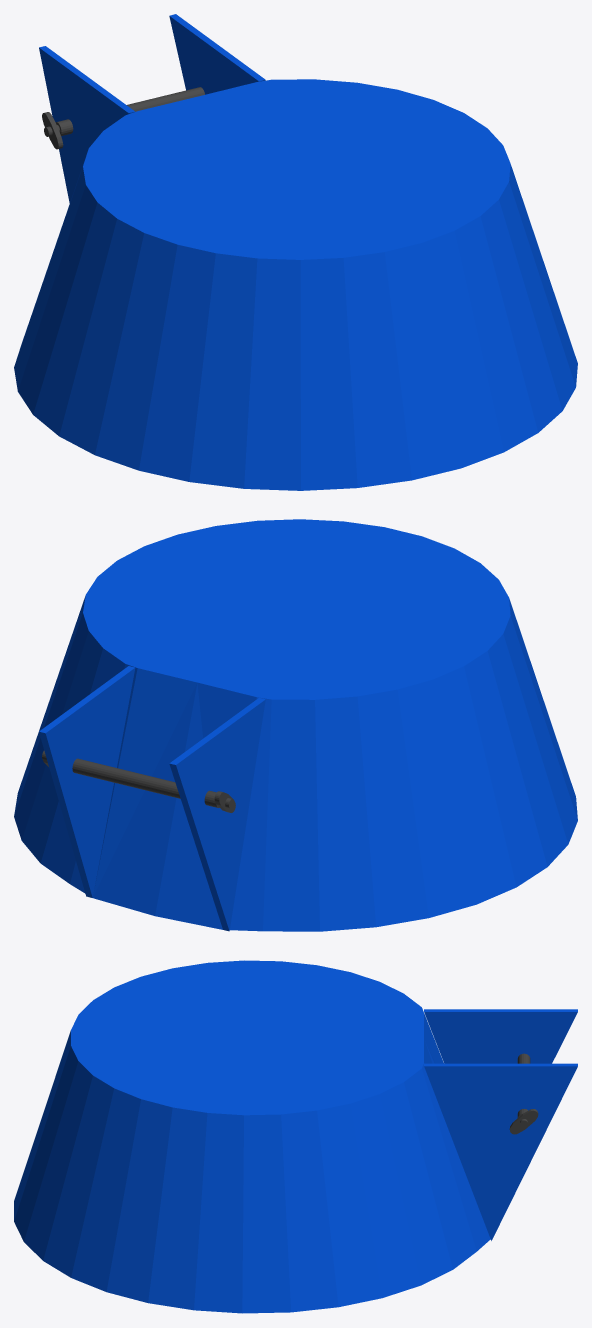
The model's file is Movable_part_1.fbx.
The picture shows the model from 3 angles, top to bottom: view 1: azimuth 30°, elevation 25°; view 2: azimuth 150°, elevation 25°; view 3: azimuth 270°, elevation 25°; orthographic projection. The views are drawn at different scales.
Visible parts, largest first — view 1: Movable; view 2: Movable; view 3: Movable.
Part boxes in pixels (<box>): Movable: <box>14,14,577,490</box>; Movable: <box>14,519,577,931</box>; Movable: <box>14,960,577,1313</box>.
Bounding box in the file's own units: 176 × 66.43 × 151.
